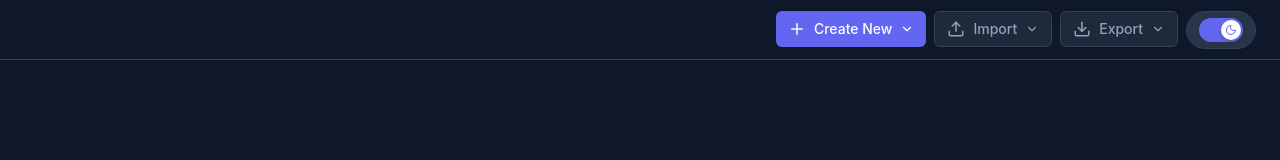
Scenario: HeaderBar › Import dropdown › should open Import dropdown when clicked
The image size is (1280, 160).
Click the button "Import" at [993, 28], box [934,10,1052,46]
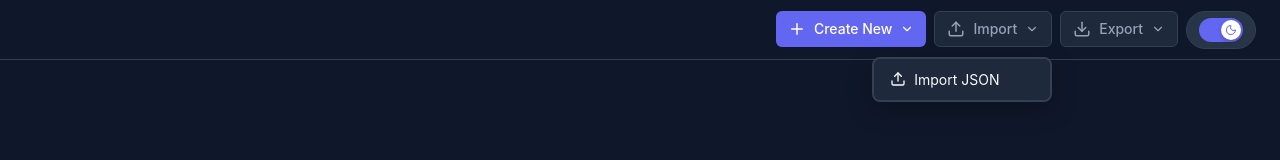
Expected: the button "Import JSON" is shown, [874,58,1050,100]
